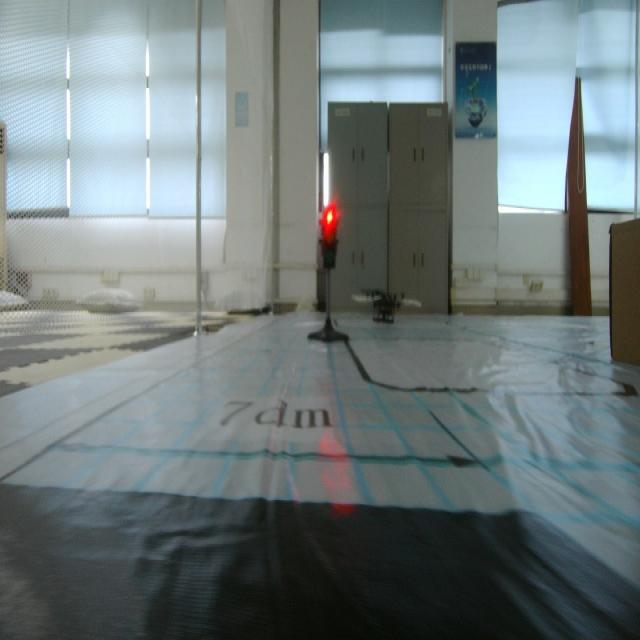red: (319, 201, 341, 269)
